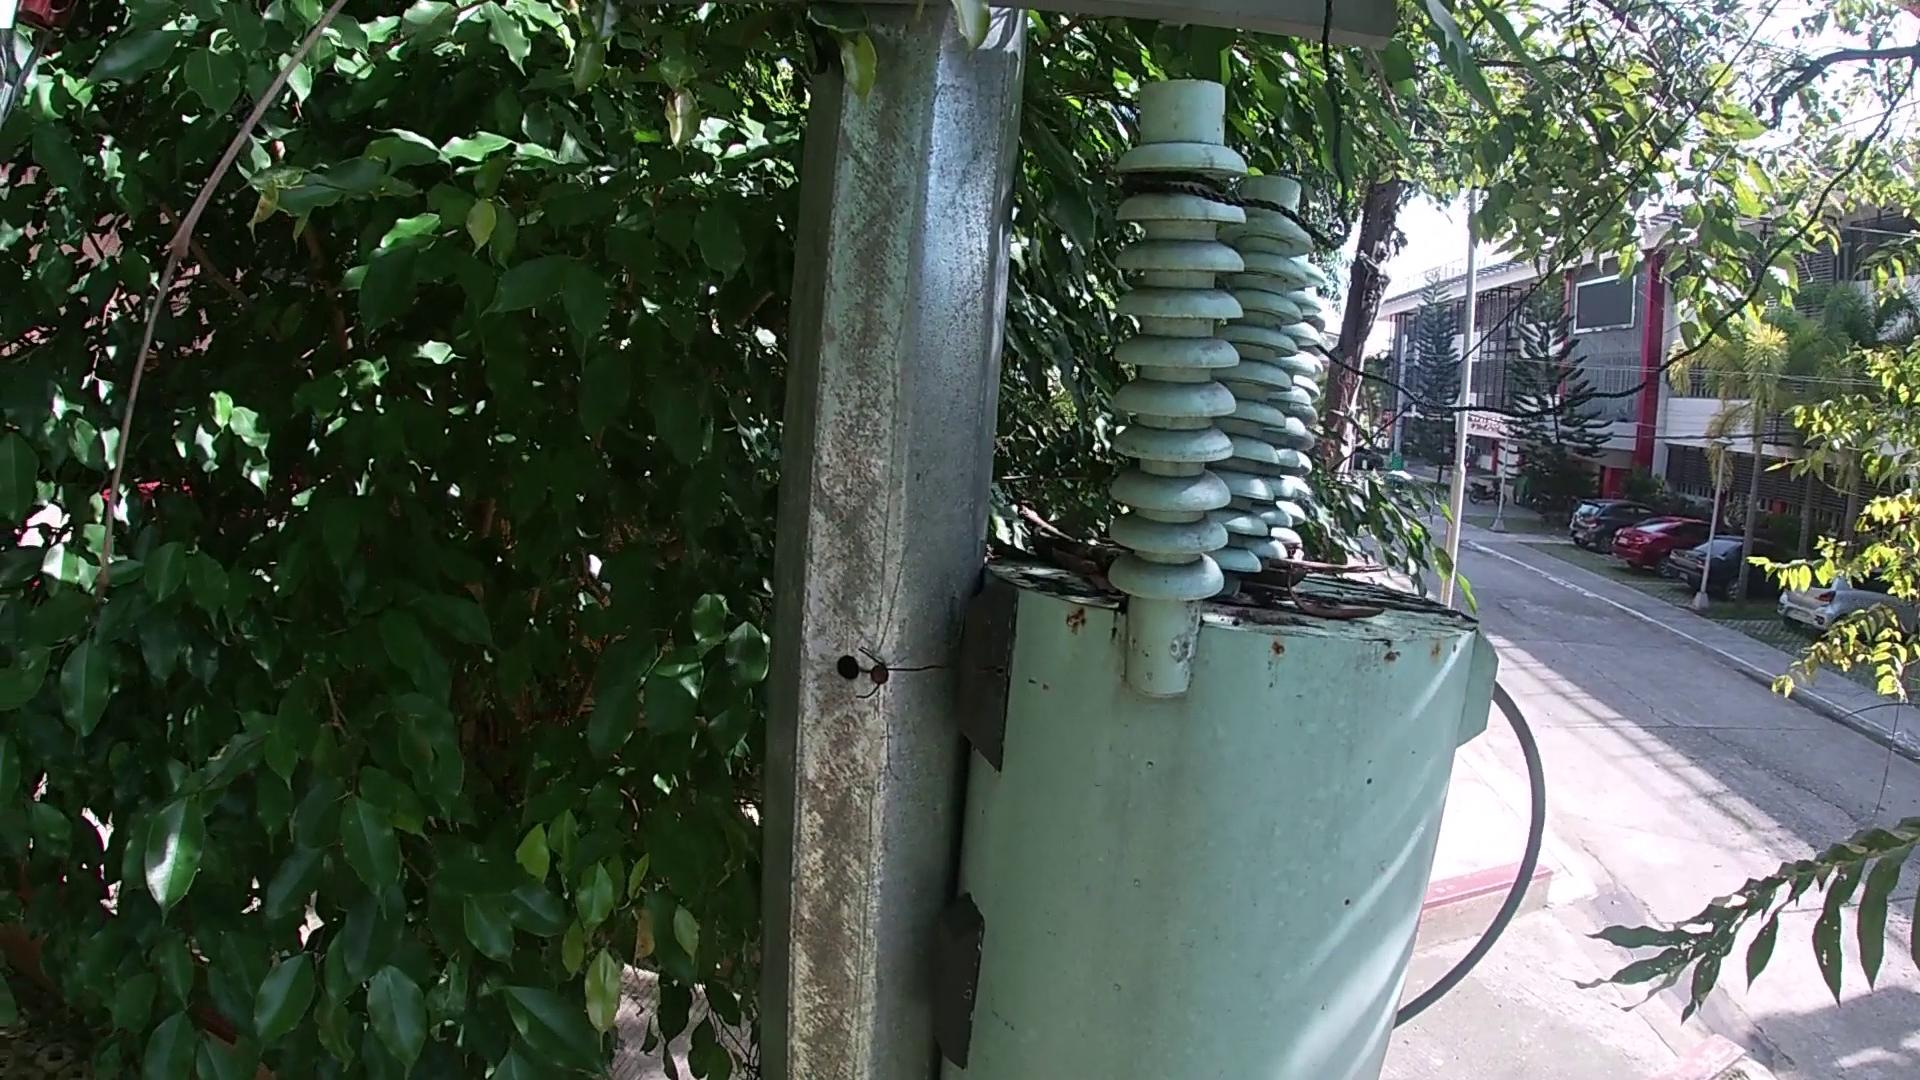mahogany fruit: (1287, 584, 1385, 622), (1242, 564, 1316, 588)
tree branch: (1025, 535, 1110, 564), (1013, 504, 1075, 535), (1232, 587, 1298, 601)
